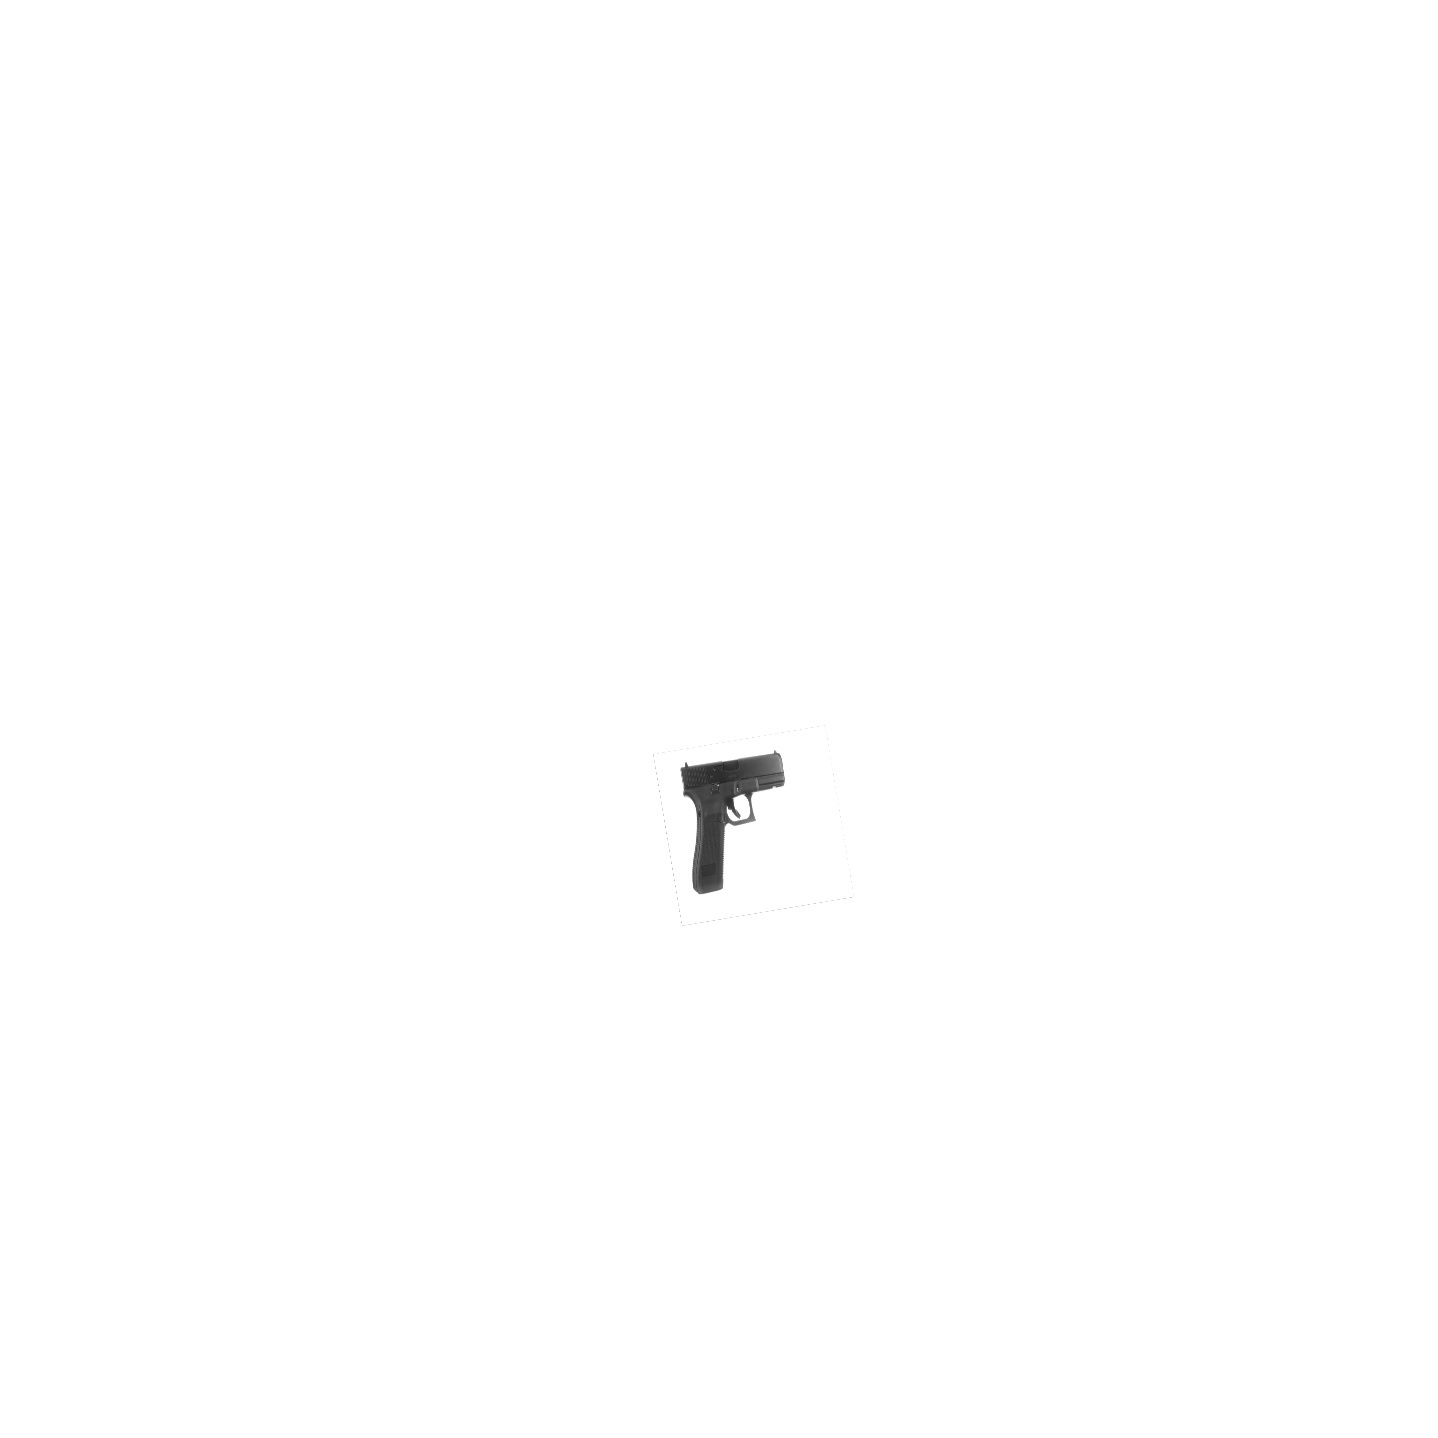gun: (676, 751, 795, 897)
